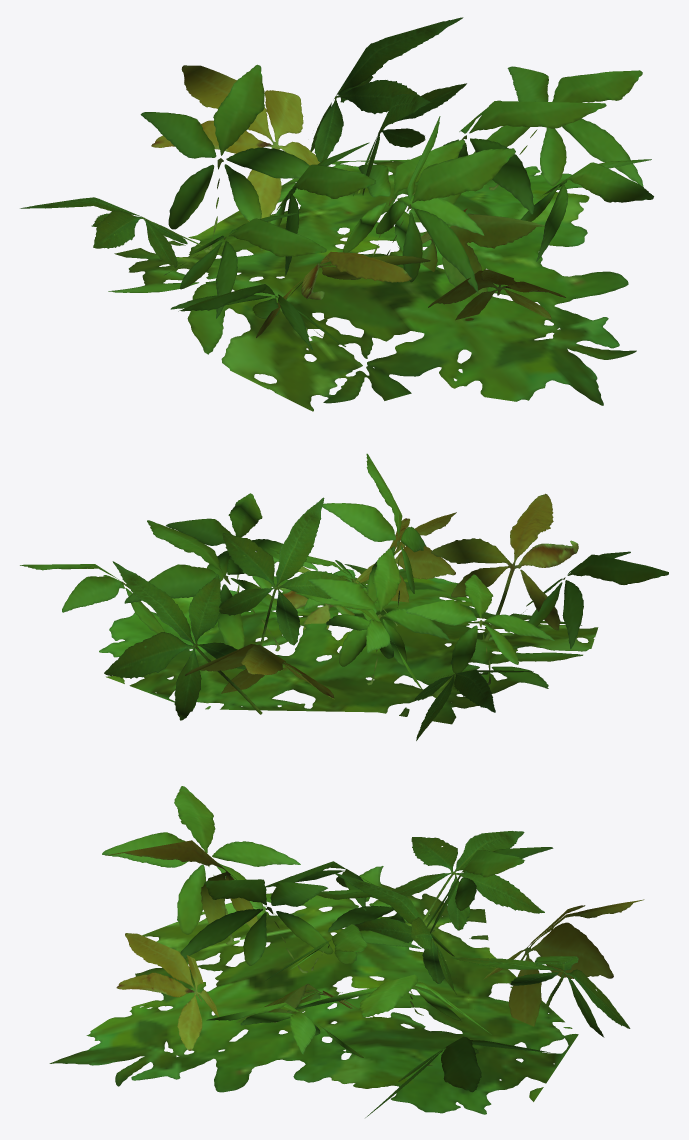
Rendered from Climber_A.fbx.
3 views of the same model, one above another, from view 1: azimuth 30°, elevation 25°; view 2: azimuth 150°, elevation 25°; view 3: azimuth 270°, elevation 25° (orthographic). The views are drawn at different scales.
Visible parts, largest first — view 1: Climber_A_LOD0; view 2: Climber_A_LOD0; view 3: Climber_A_LOD0.
Boxes of the visible parts, left/top/right/bottom form: Climber_A_LOD0: left=20, top=17, right=653, bottom=411; Climber_A_LOD0: left=20, top=453, right=668, bottom=740; Climber_A_LOD0: left=49, top=786, right=644, bottom=1117.
Size of what is drawn, in the model's own units: 4.43 by 1.4 by 4.33.
Materials: 1 (1 with a texture image).
